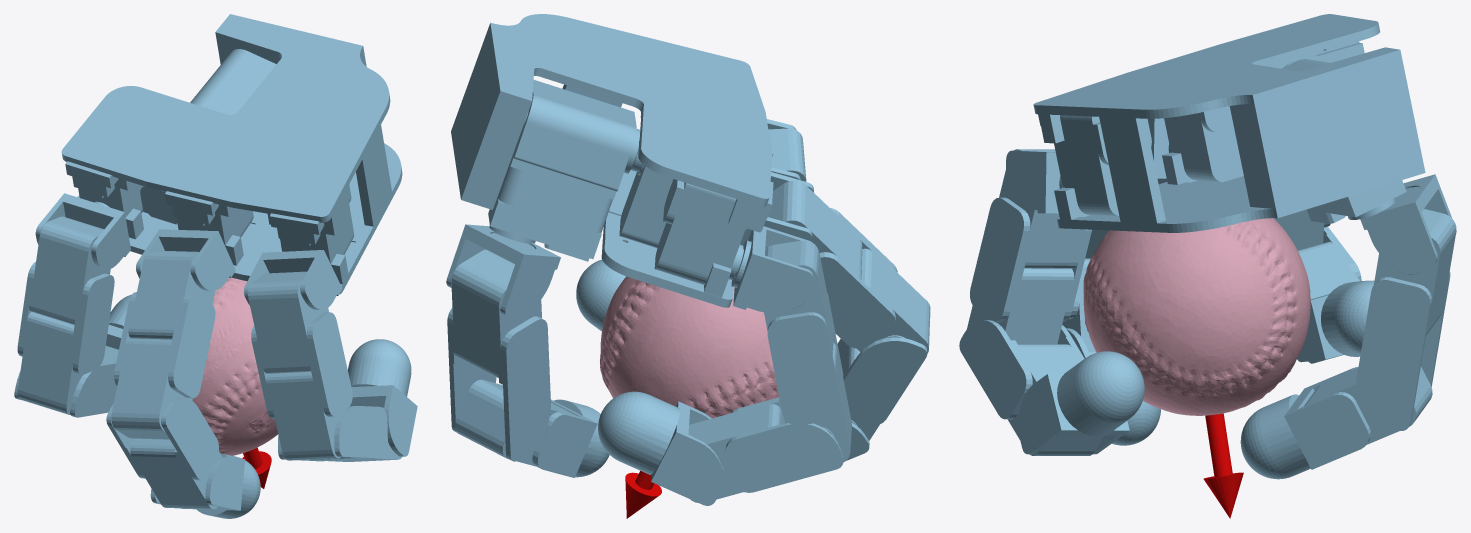
3 views of the same model, side by side, from view 1: azimuth 30°, elevation 25°; view 2: azimuth 150°, elevation 25°; view 3: azimuth 270°, elevation 25° (orthographic). The views are drawn at different scales.
Parts seen in each view (by area): view 1: world, baseball.stl; view 2: world, baseball.stl; view 3: world, baseball.stl.
Part boxes in pixels (x1=…): world: x1=14, y1=14, x2=417, y2=518; baseball.stl: x1=192, y1=277, x2=278, y2=455; world: x1=446, y1=14, x2=930, y2=518; baseball.stl: x1=600, y1=276, x2=778, y2=418; world: x1=959, y1=14, x2=1456, y2=518; baseball.stl: x1=1083, y1=218, x2=1310, y2=415.
Bounding box in the file's own units: 0.1543 × 0.1732 × 0.1589.
